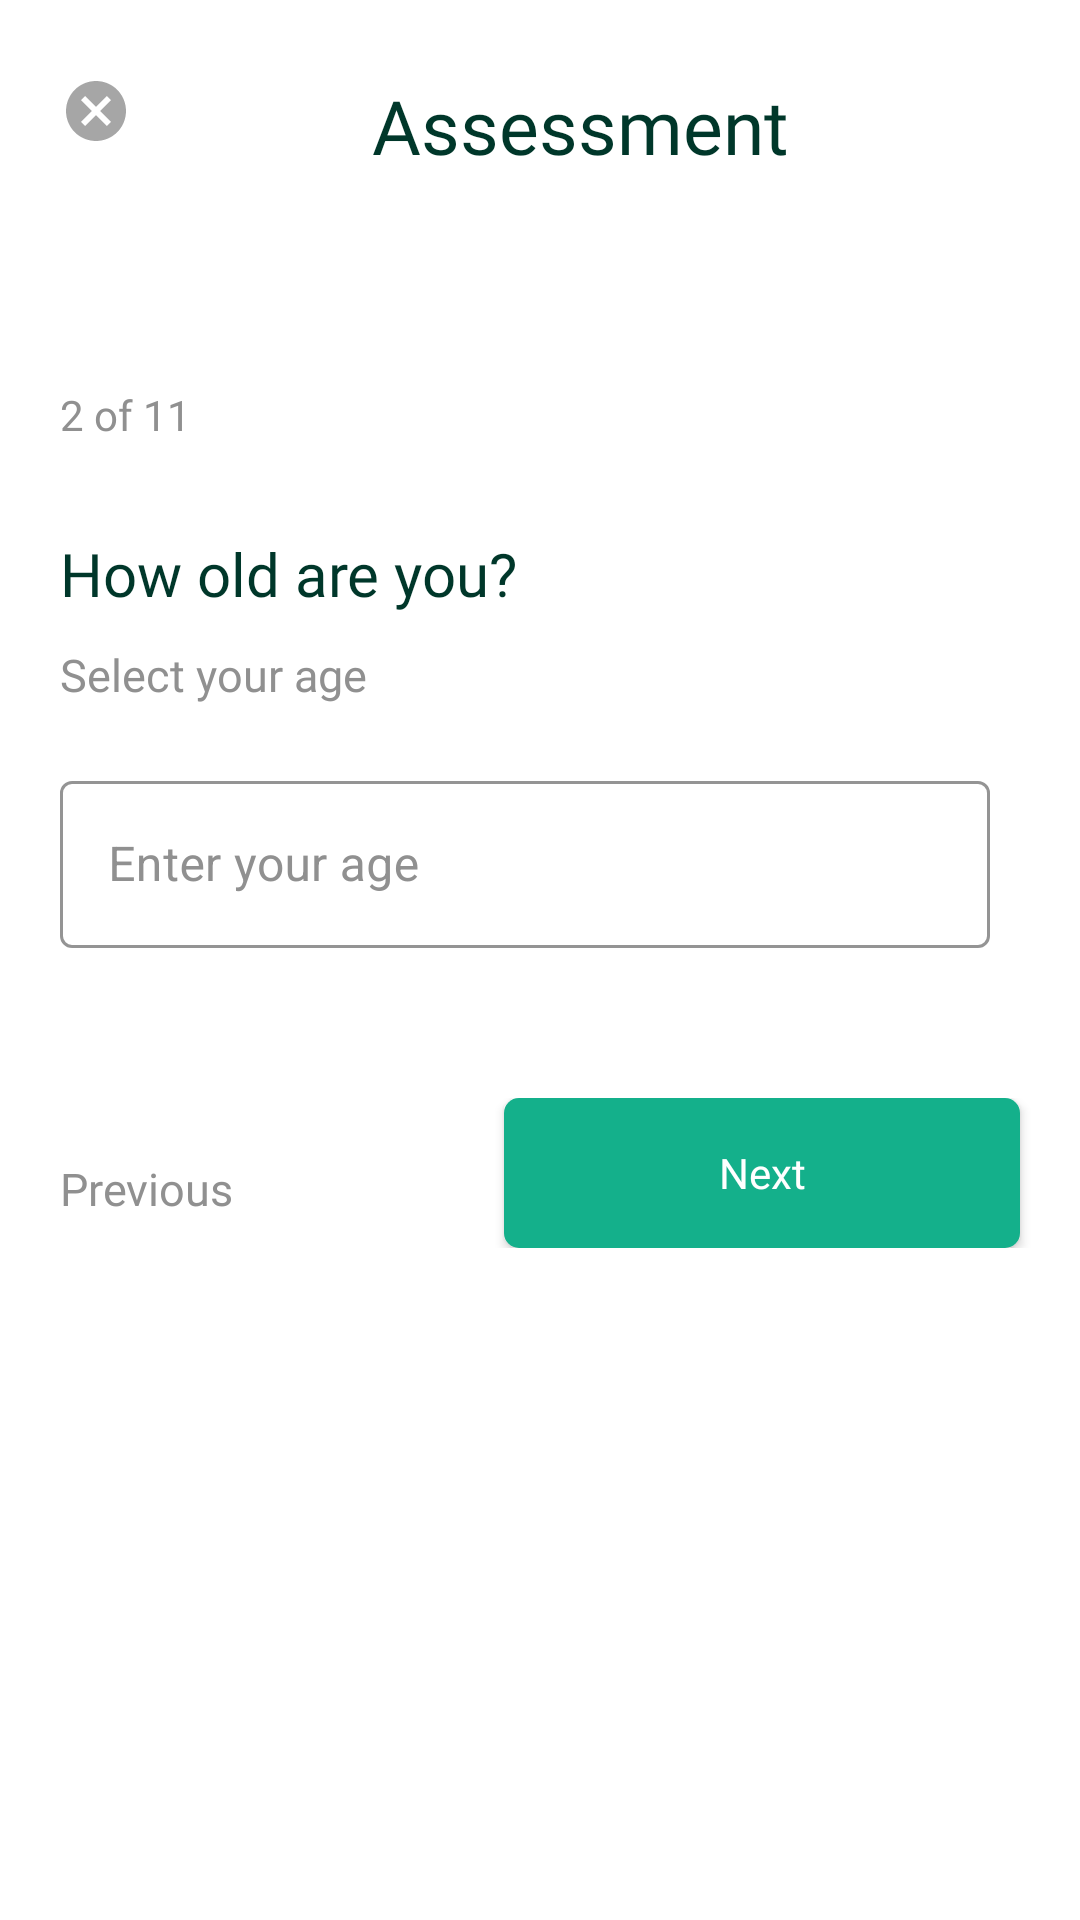

Icon bounding boxes for this 1080 x 1920 phone screenshot, format bbox(x1, y1, x2, y2):
cancel: bbox(66, 81, 126, 141)
